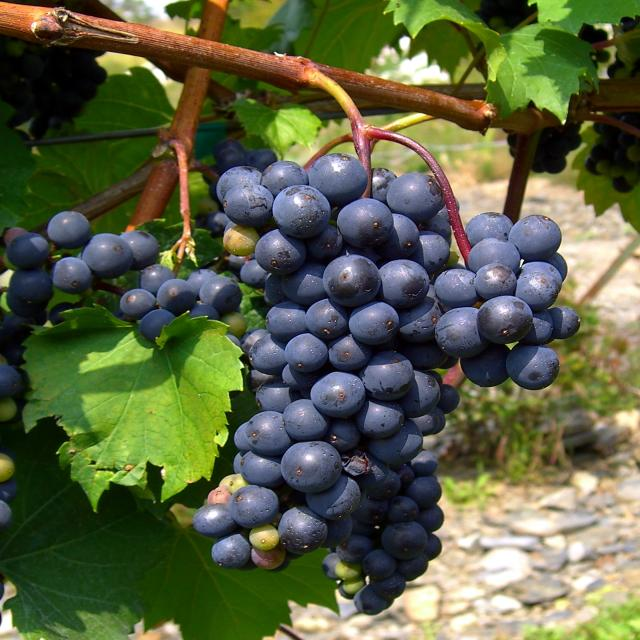grape: (0, 112, 610, 578)
